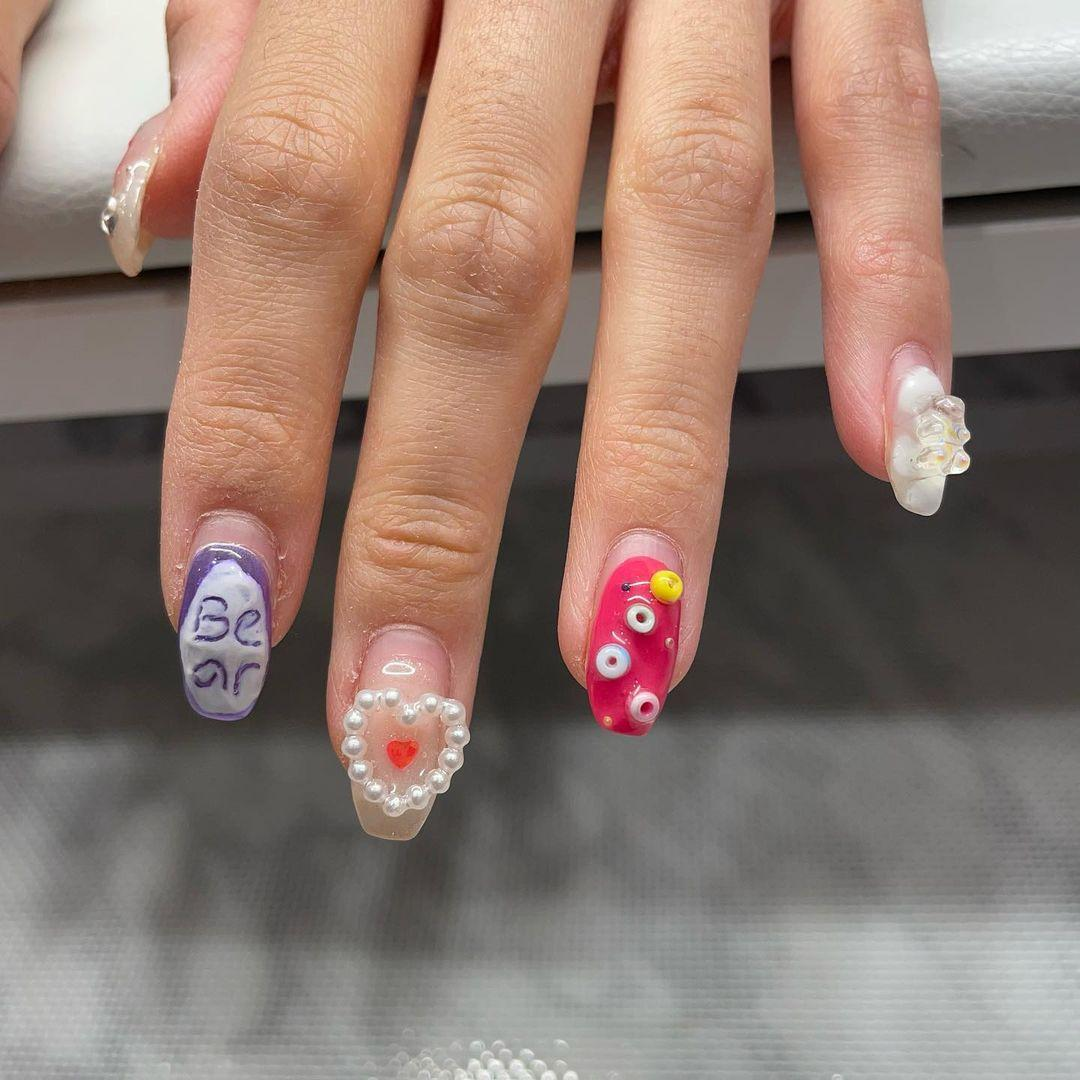nail: (338, 622, 469, 841), (175, 508, 279, 722), (583, 526, 685, 735), (880, 340, 971, 516), (100, 107, 167, 276)
